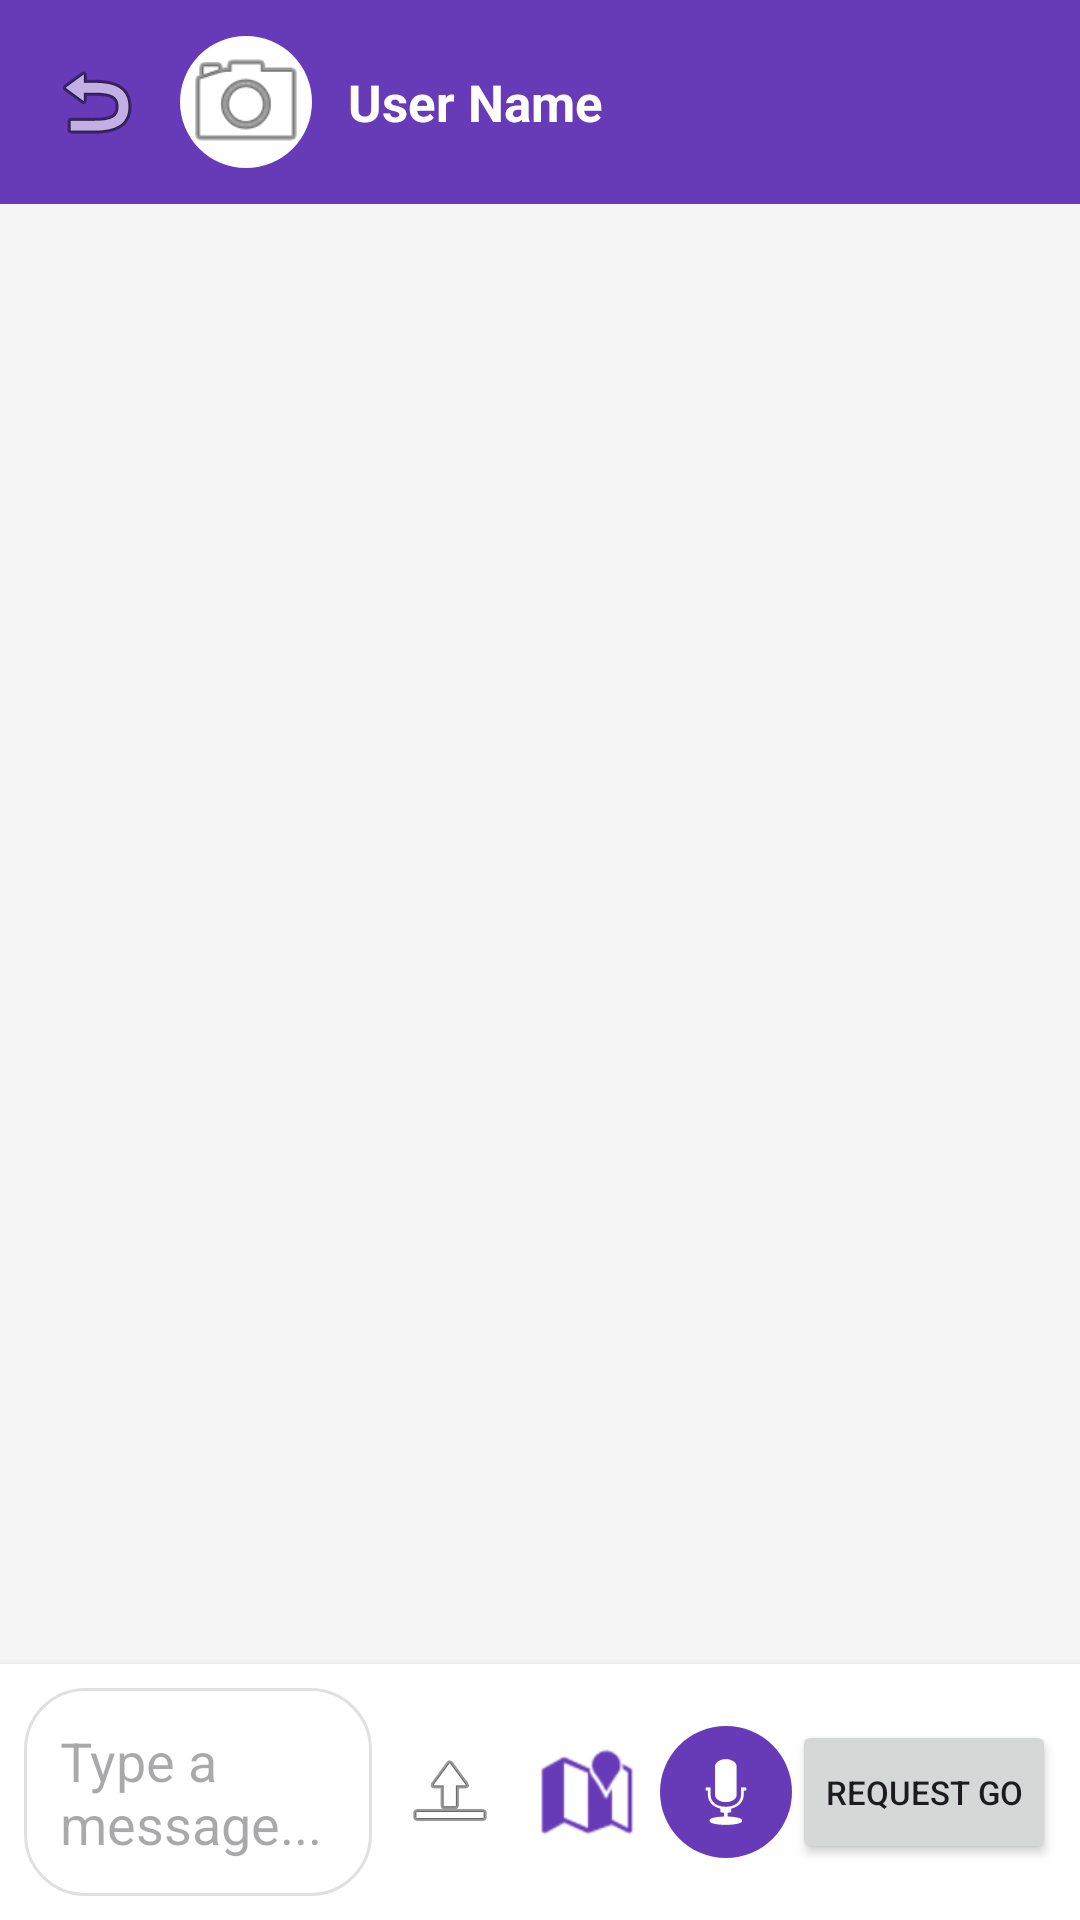

Screen size 1080 × 1920. Icon name, then its center in pixels as (x,y):
Back: (97,102)
Send Image: (450,1790)
Send Voice Message: (726,1792)
Share Location: (587,1792)
